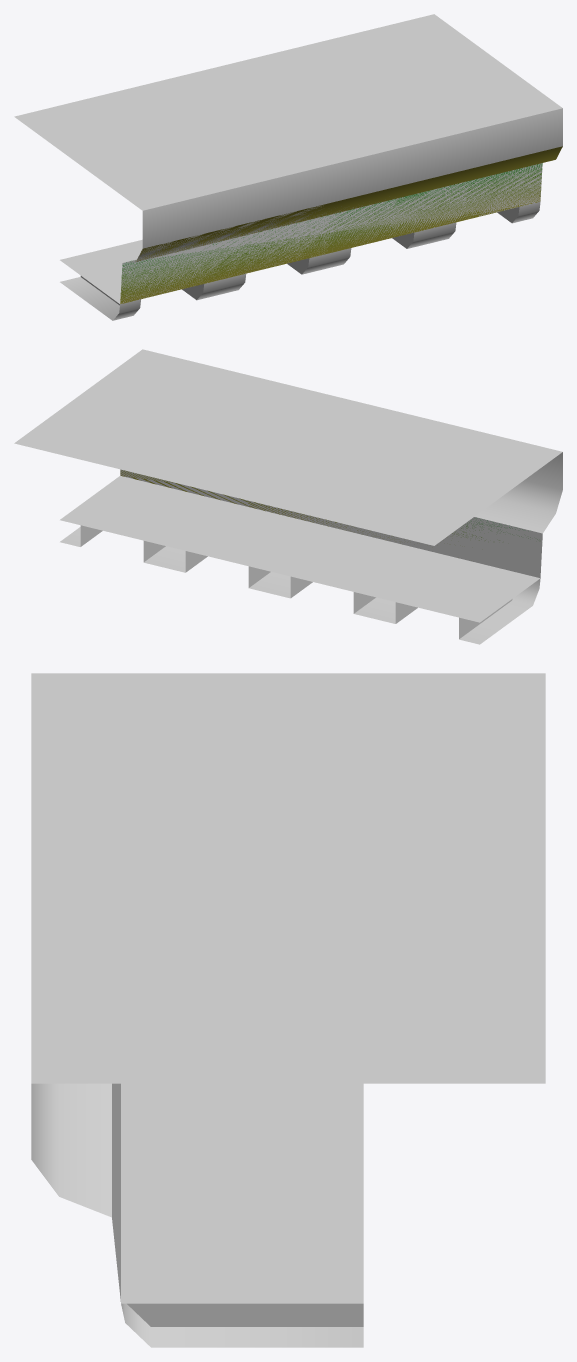
Rendered from SM_CorniceA2m.fbx.
3 renders of one model, top to bottom at view 1: azimuth 30°, elevation 25°; view 2: azimuth 150°, elevation 25°; view 3: azimuth 270°, elevation 25°, orthographic. The views are drawn at different scales.
Parts seen in each view (by area): view 1: SM_CorniceA2m; view 2: SM_CorniceA2m; view 3: SM_CorniceA2m.
Boxes of the visible parts, x1,y1,x2,y2 form: SM_CorniceA2m: [14, 14, 562, 320]; SM_CorniceA2m: [14, 349, 562, 644]; SM_CorniceA2m: [31, 673, 545, 1347].
Bounding box in the file's own units: 200 × 60 × 106.
